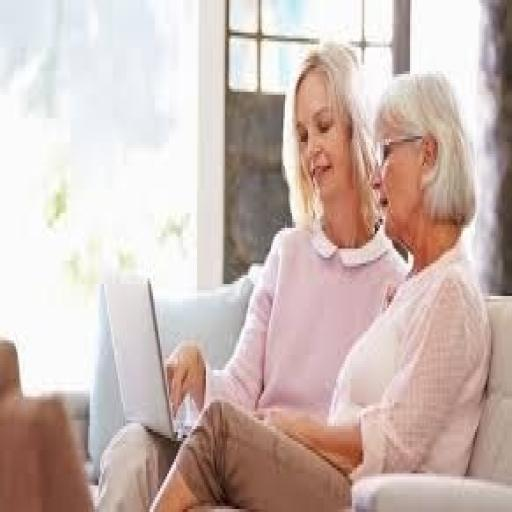using_laptop: (100, 272, 204, 444)
